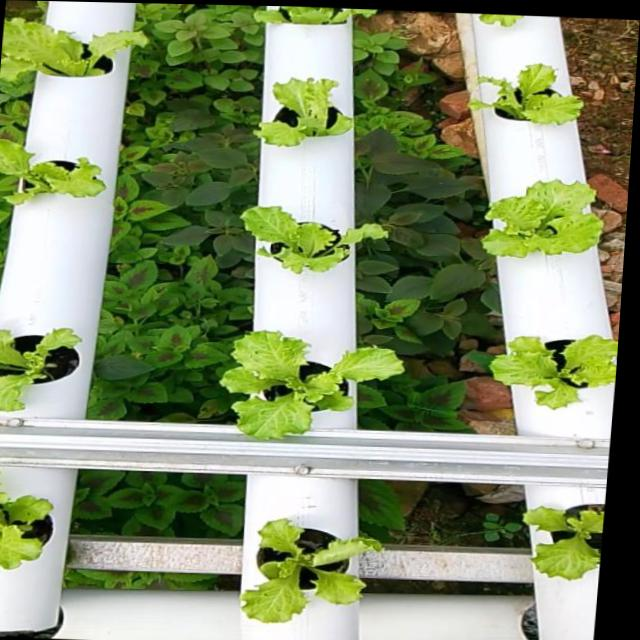Baby: (225, 330, 407, 436), (247, 515, 388, 618), (244, 207, 390, 274), (491, 332, 618, 406), (0, 23, 149, 86), (482, 180, 603, 257), (0, 324, 89, 411), (0, 140, 111, 207), (468, 65, 582, 126), (257, 81, 354, 149), (0, 464, 62, 565), (527, 501, 604, 575)
